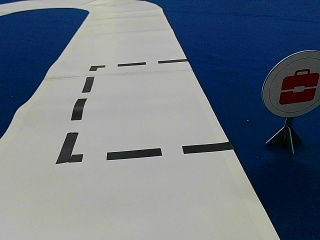company: (262, 51, 319, 117)
